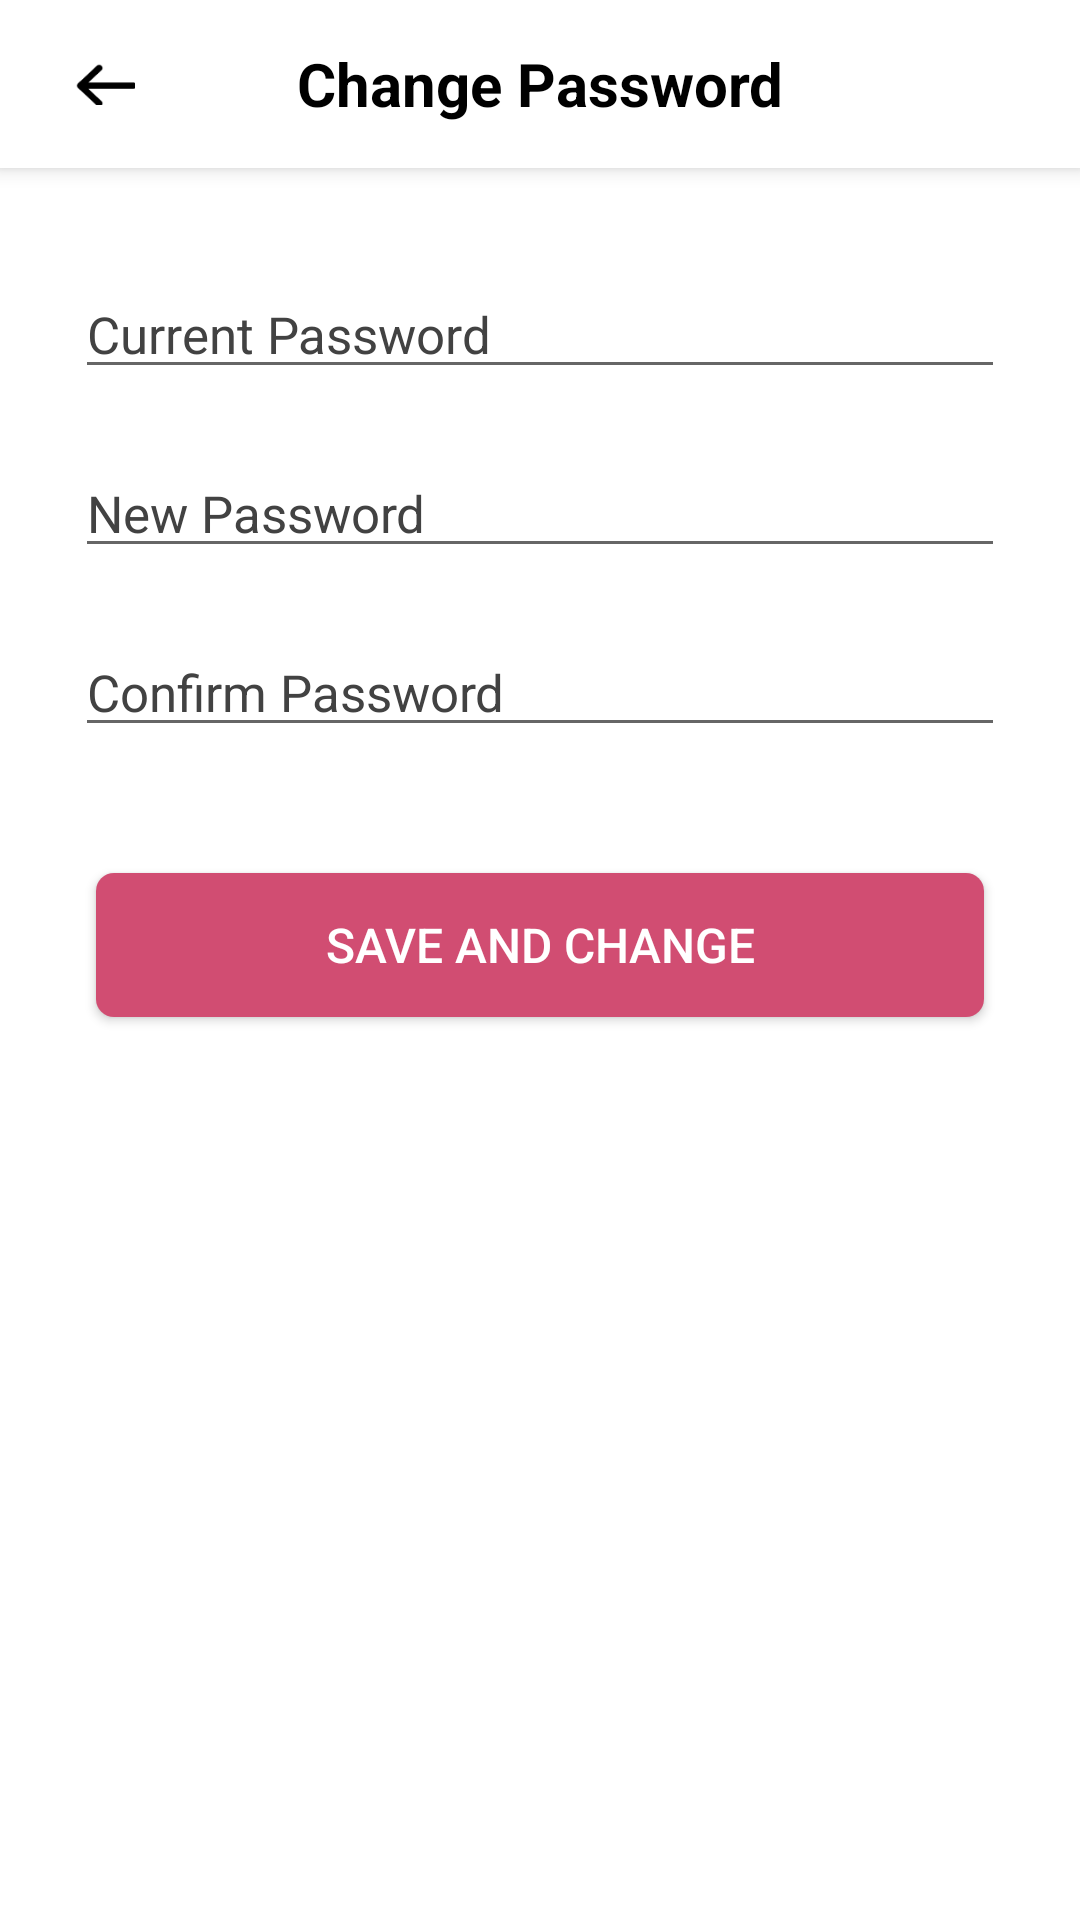

Screen size 1080px×1920px. Icon name, then its center in pixels as (x=x, y=y):
backbtn: (x=105, y=84)
